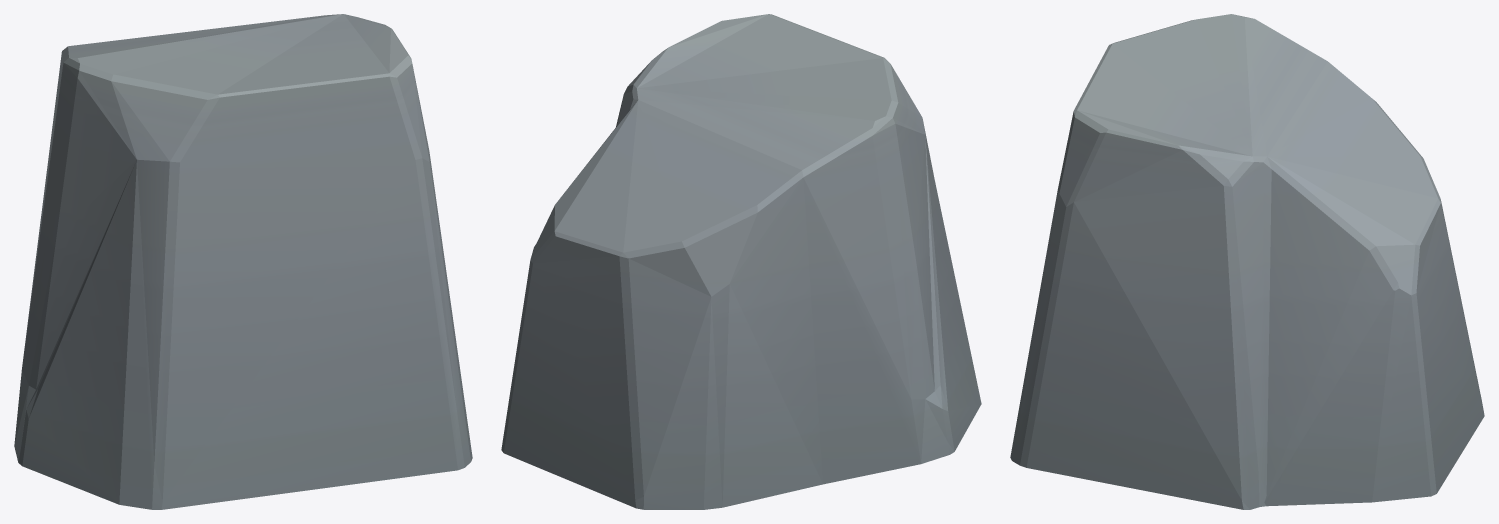
The model's file is rock_block.glb.
3 views of the same model, side by side, from view 1: azimuth 30°, elevation 25°; view 2: azimuth 150°, elevation 25°; view 3: azimuth 270°, elevation 25° (orthographic). The views are drawn at different scales.
Parts seen in each view (by area): view 1: rock_block; view 2: rock_block; view 3: rock_block.
Part boxes in pixels (bbox=[...]): rock_block: bbox=[14, 14, 472, 509]; rock_block: bbox=[501, 14, 981, 509]; rock_block: bbox=[1010, 14, 1484, 509].
Bounding box in the file's own units: 1.08 × 0.9 × 1.14.
Materials: 1 (1 with a texture image).
